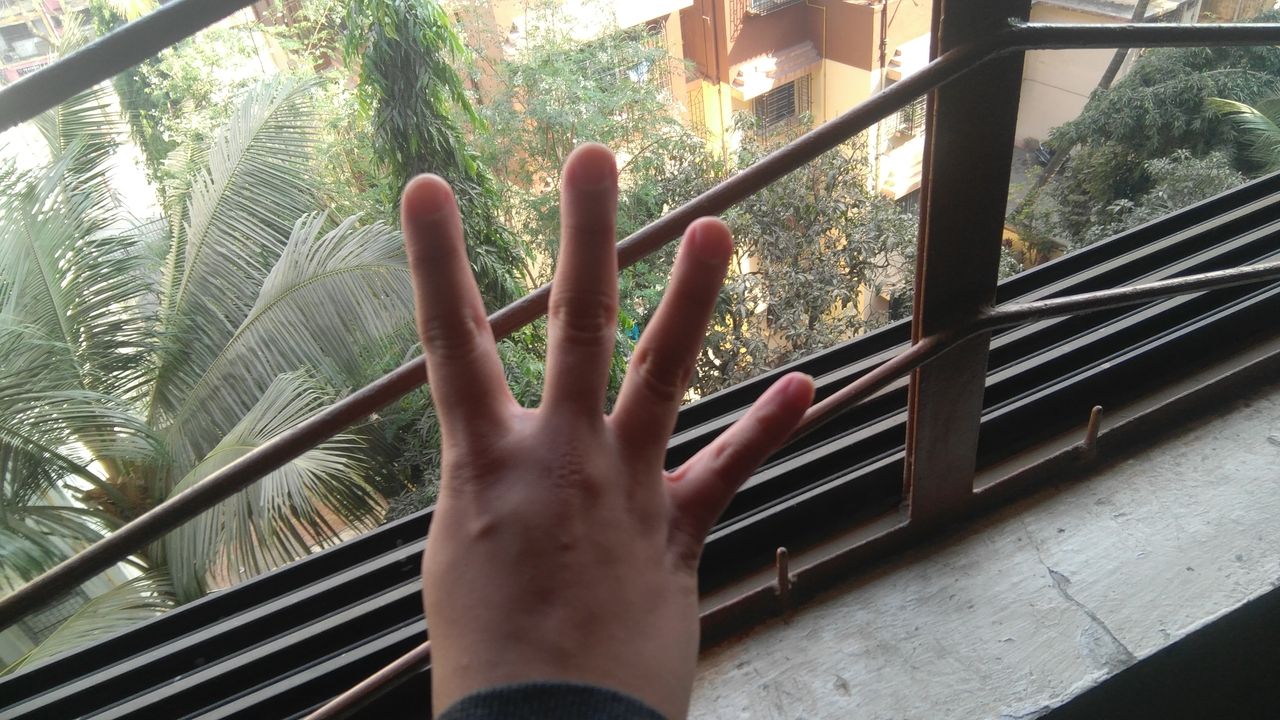fingertip: (392, 166, 456, 230), (556, 138, 618, 200), (678, 212, 736, 274), (762, 370, 812, 420)
